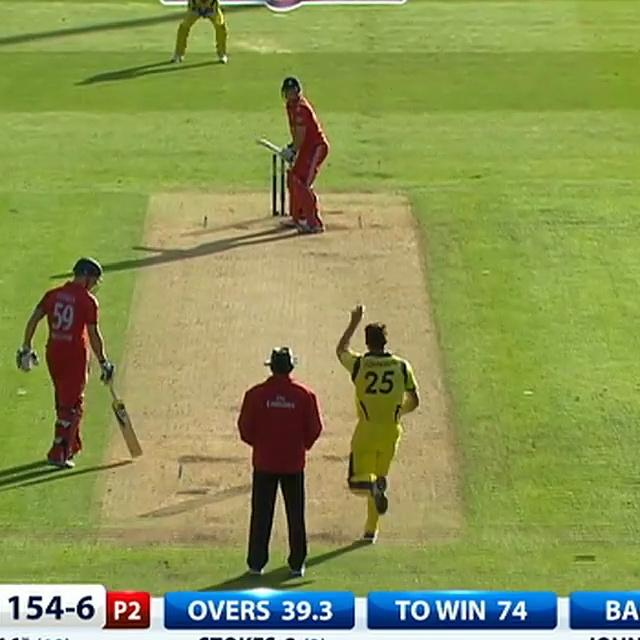umpire: (225, 336, 332, 582)
